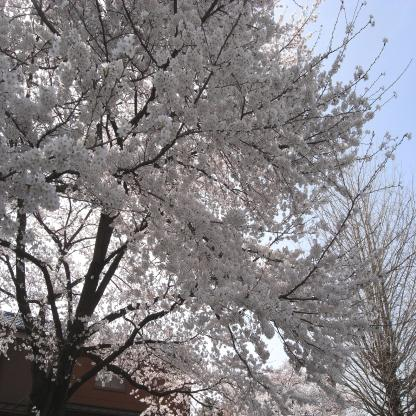Someiyoshino: (1, 2, 412, 416)
